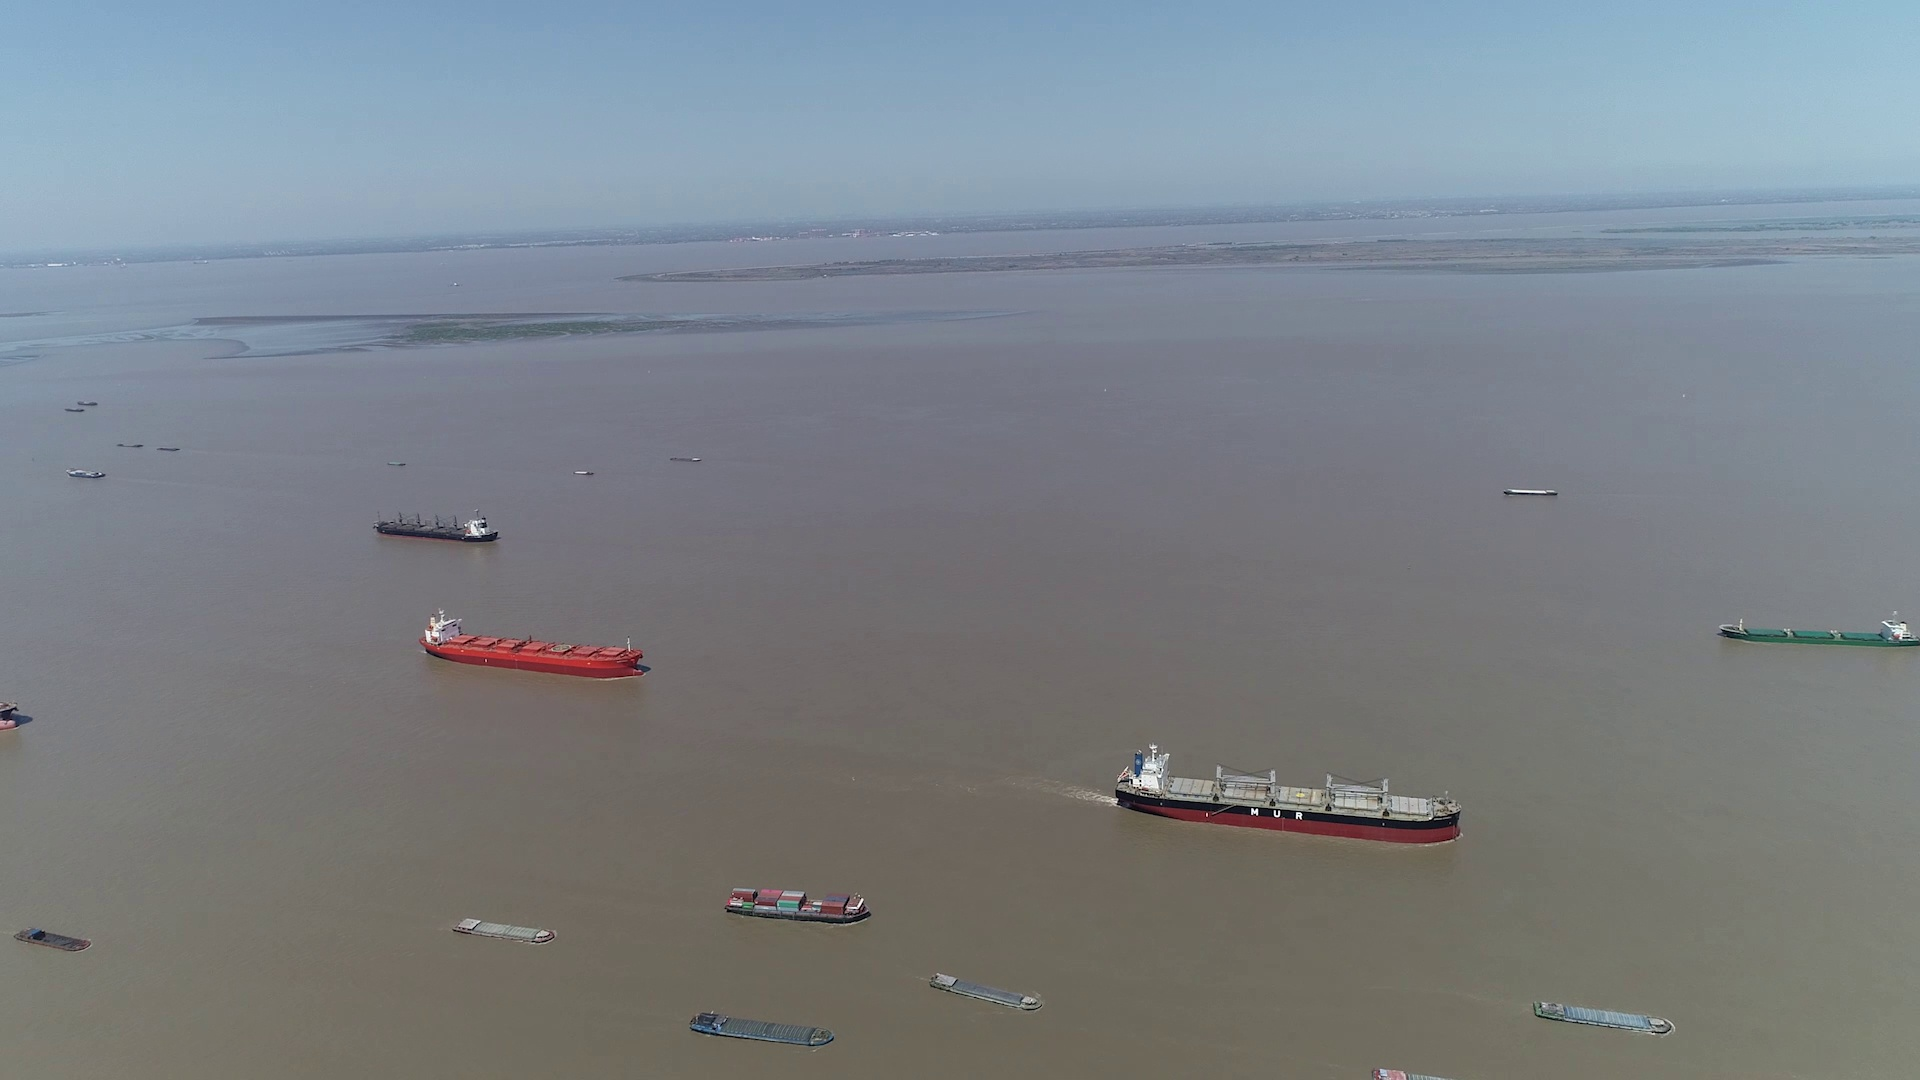ship: (1114, 746, 1462, 843), (419, 608, 646, 676), (1717, 613, 1917, 647), (690, 1011, 836, 1050), (725, 887, 870, 924), (1534, 1000, 1675, 1036), (927, 971, 1040, 1011), (375, 508, 498, 542), (452, 915, 559, 943), (18, 924, 88, 951), (0, 690, 32, 735), (1505, 487, 1557, 497), (66, 468, 108, 480)
